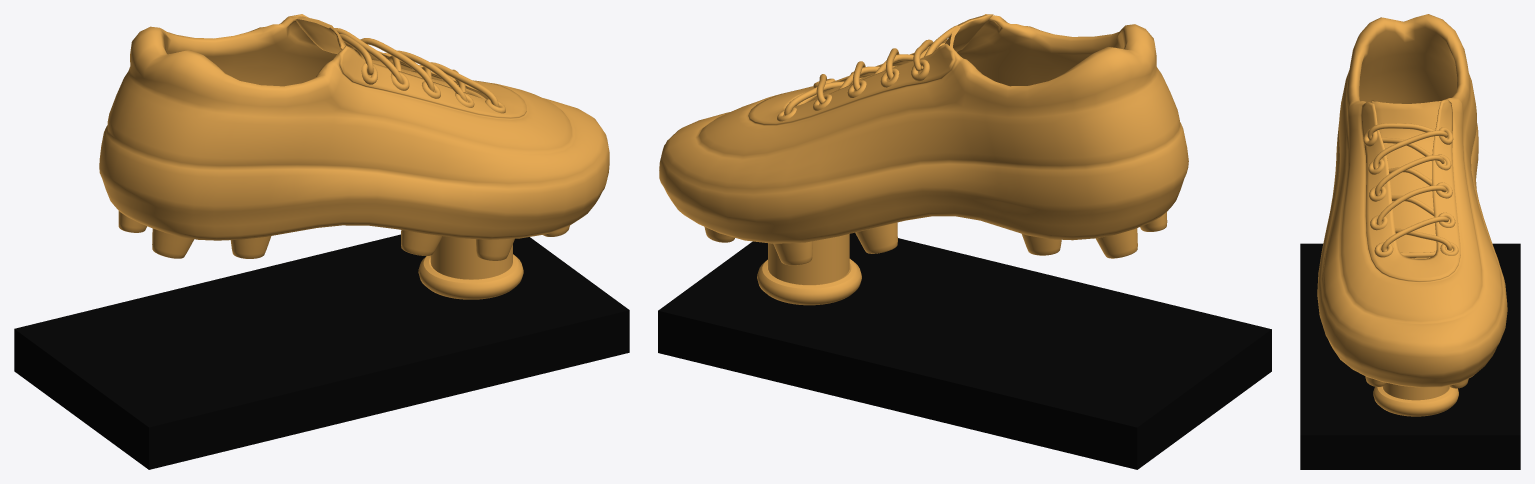
File: golden_boot.glb
3 renders of one model, left to right at view 1: azimuth 30°, elevation 25°; view 2: azimuth 150°, elevation 25°; view 3: azimuth 270°, elevation 25°, orthographic. The views are drawn at different scales.
Visible parts, largest first — view 1: Bota D'or_3, Cube_0, Torus_2, Cylinder_1; view 2: Bota D'or_3, Cube_0, Cylinder_1, Torus_2; view 3: Bota D'or_3, Cube_0, Torus_2, Cylinder_1.
Part boxes in pixels (box(x1,y1,x2,y2)): Bota D'or_3: box(99, 14, 609, 260); Cube_0: box(14, 234, 629, 469); Torus_2: box(418, 254, 523, 299); Cylinder_1: box(430, 236, 512, 279); Bota D'or_3: box(659, 14, 1188, 265); Cube_0: box(658, 232, 1271, 469); Cylinder_1: box(768, 234, 849, 284); Torus_2: box(757, 259, 861, 305); Bota D'or_3: box(1317, 14, 1507, 388); Cube_0: box(1300, 243, 1520, 469); Torus_2: box(1373, 386, 1458, 416); Cylinder_1: box(1382, 383, 1449, 400).
Size of the model in its own units: 2.79 by 1.84 by 1.24.
